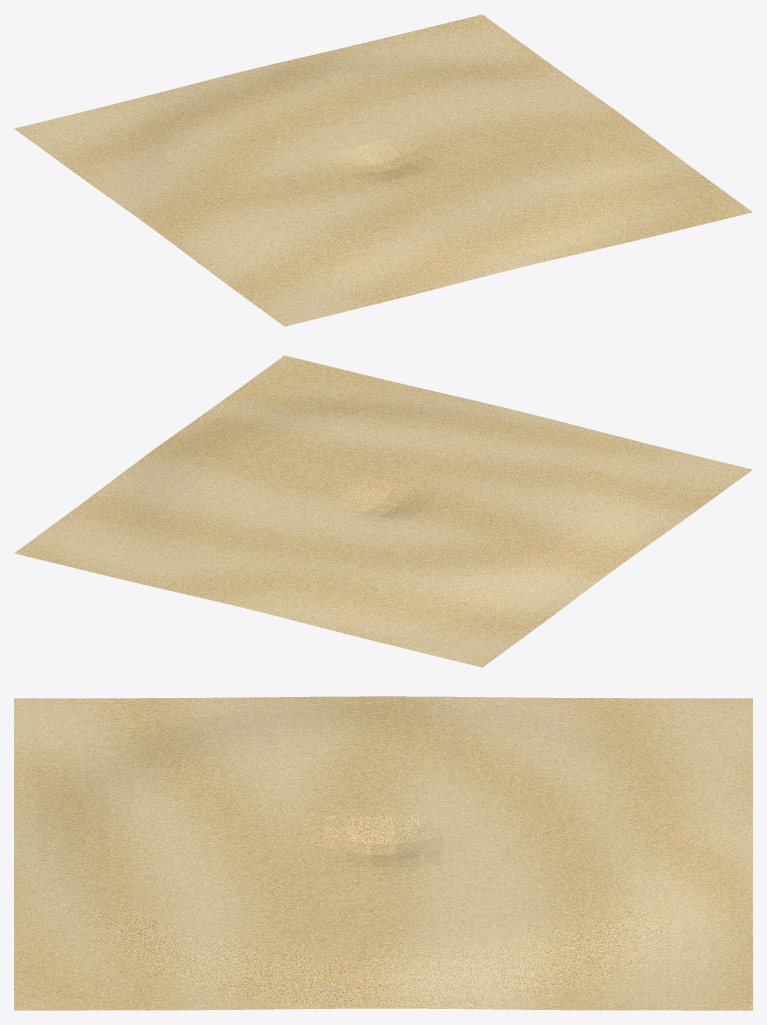
Rendered from Nivel1.fbx.
The picture shows the model from 3 angles, top to bottom: view 1: azimuth 30°, elevation 25°; view 2: azimuth 150°, elevation 25°; view 3: azimuth 270°, elevation 25°; orthographic projection. The views are drawn at different scales.
Visible parts, largest first — view 1: Plano_001; view 2: Plano_001; view 3: Plano_001.
Part boxes in pixels (box(x1,y1,x2,y2)): Plano_001: box(14, 14, 752, 326); Plano_001: box(14, 355, 752, 667); Plano_001: box(14, 696, 752, 1010).
Size of the model in its own units: 50 by 0.9961 by 50.
